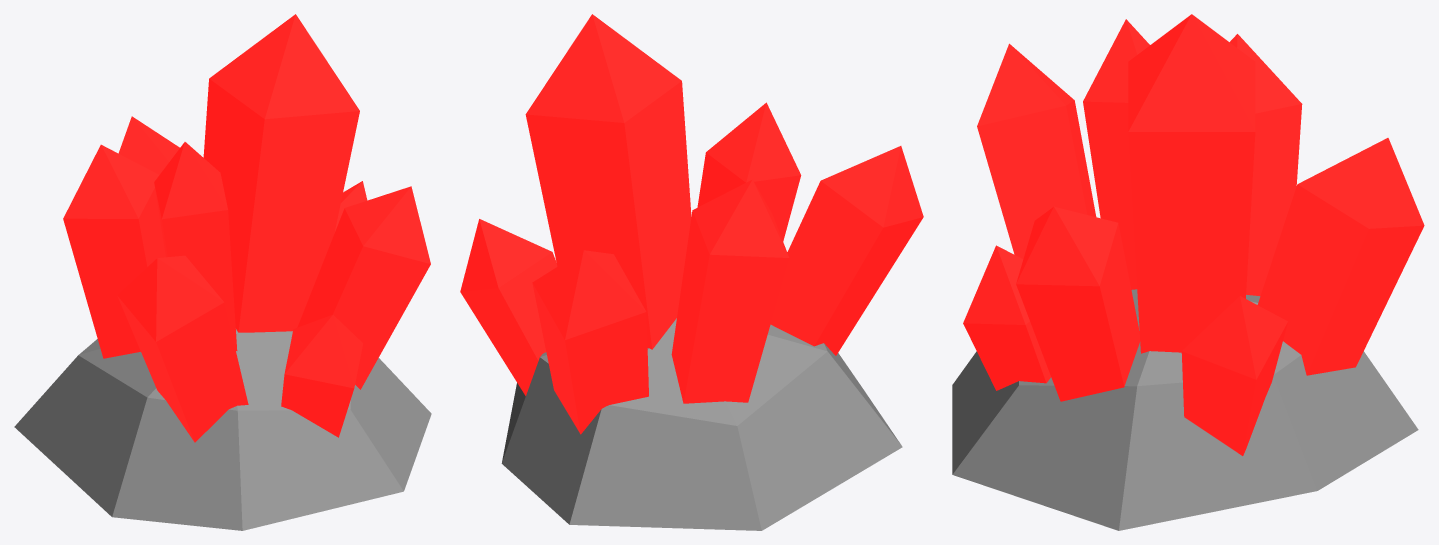
Rendered from low_poly_crystal.glb.
The picture shows the model from 3 angles, left to right: view 1: azimuth 30°, elevation 25°; view 2: azimuth 150°, elevation 25°; view 3: azimuth 270°, elevation 25°; orthographic projection. The views are drawn at different scales.
Visible parts, largest first — view 1: Object_2, Object_3; view 2: Object_2, Object_3; view 3: Object_2, Object_3.
Boxes of the visible parts, bbox=[...] form: Object_2: bbox=[63, 14, 430, 442]; Object_3: bbox=[14, 329, 431, 530]; Object_2: bbox=[460, 14, 923, 434]; Object_3: bbox=[501, 318, 902, 530]; Object_2: bbox=[963, 14, 1424, 455]; Object_3: bbox=[952, 289, 1418, 530].
Size of the model in its own units: 0.283 by 0.3142 by 0.293.
